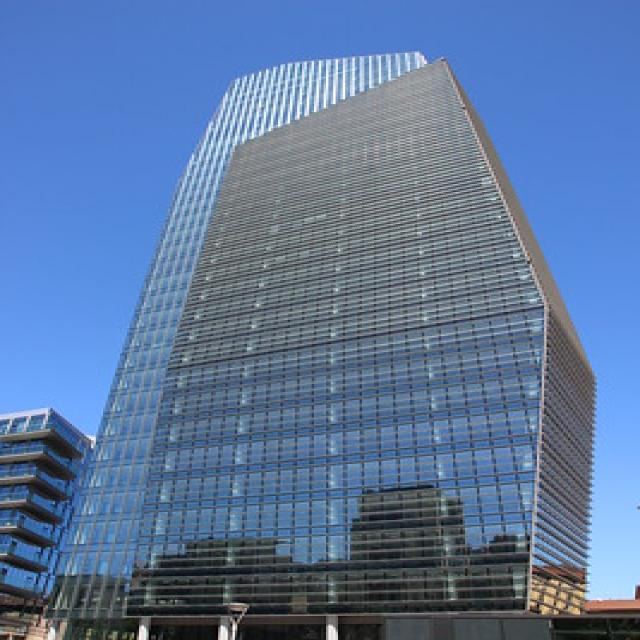Normal_building: (51, 40, 603, 632)
